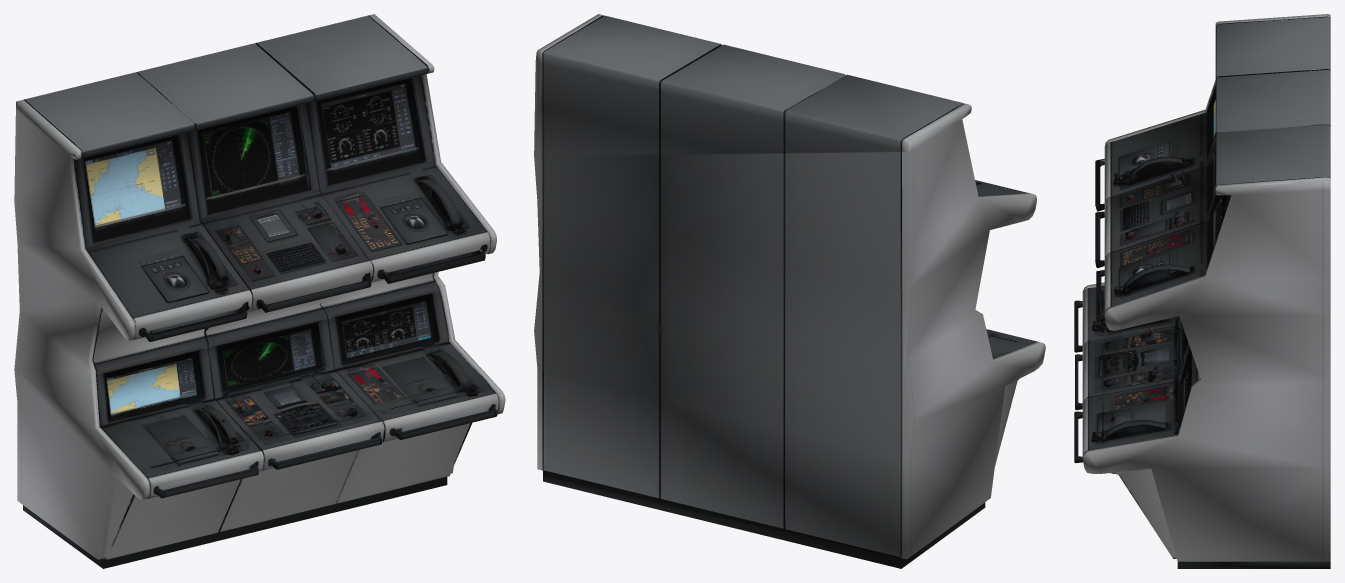
Rendered from selected.glb.
3 renders of one model, left to right at view 1: azimuth 30°, elevation 25°; view 2: azimuth 150°, elevation 25°; view 3: azimuth 270°, elevation 25°, orthographic. The views are drawn at different scales.
Parts seen in each view (by area): view 1: tripo_node_3943532e-d1eb-470a-a980-661204b8c4c2; view 2: tripo_node_3943532e-d1eb-470a-a980-661204b8c4c2; view 3: tripo_node_3943532e-d1eb-470a-a980-661204b8c4c2.
Boxes of the visible parts, x1,y1,x2,y2 form: tripo_node_3943532e-d1eb-470a-a980-661204b8c4c2: [14, 14, 505, 568]; tripo_node_3943532e-d1eb-470a-a980-661204b8c4c2: [534, 14, 1045, 568]; tripo_node_3943532e-d1eb-470a-a980-661204b8c4c2: [1074, 14, 1330, 568].
Bounding box in the file's own units: 0.9316 × 0.998 × 0.5918.
Materials: 1 (1 with a texture image).
